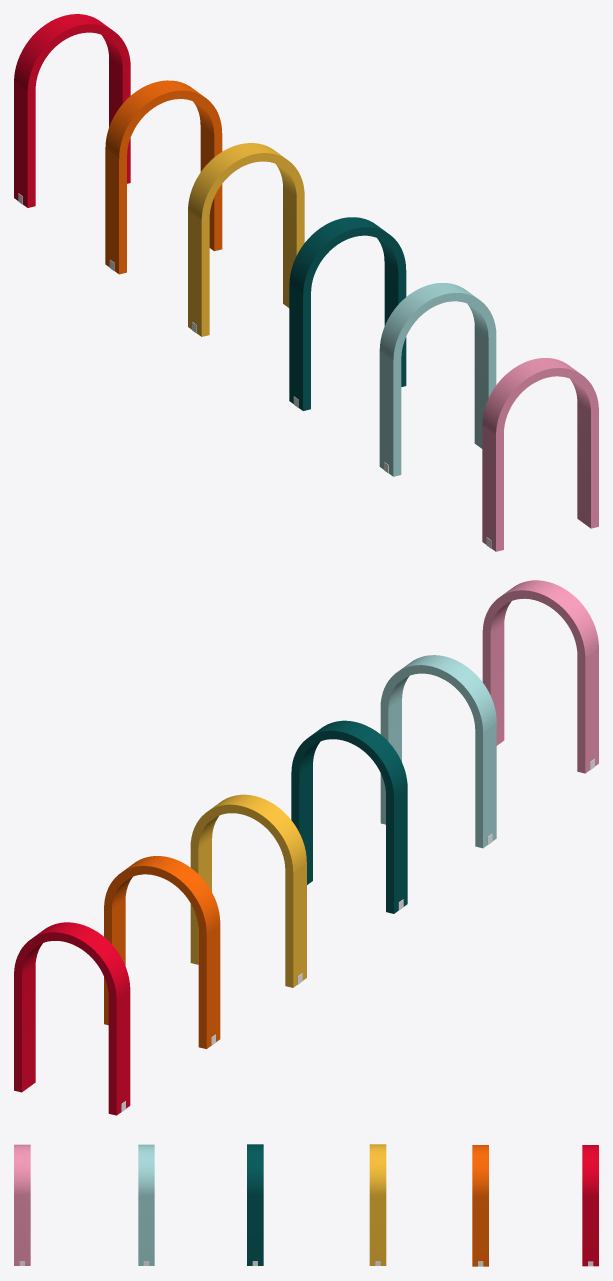
File: Colorful-Arches.glb
3 renders of one model, top to bottom at view 1: azimuth 30°, elevation 25°; view 2: azimuth 150°, elevation 25°; view 3: azimuth 270°, elevation 25°, orthographic. The views are drawn at different scales.
Parts seen in each view (by area): view 1: wall_doors_arc 6, wall_doors_arc 5, wall_doors_arc 3, wall_doors_arc 2, wall_doors_arc 4, wall_doors_arc; view 2: wall_doors_arc, wall_doors_arc 6, wall_doors_arc 4, wall_doors_arc 2, wall_doors_arc 3, wall_doors_arc 5; view 3: wall_doors_arc 3, wall_doors_arc 6, wall_doors_arc 5, wall_doors_arc 2, wall_doors_arc 4, wall_doors_arc.
Boxes of the visible parts, x1=… form: wall_doors_arc 6: x1=482, y1=358, x2=598, y2=551; wall_doors_arc 5: x1=379, y1=283, x2=496, y2=476; wall_doors_arc 3: x1=188, y1=143, x2=304, y2=336; wall_doors_arc 2: x1=105, y1=80, x2=222, y2=274; wall_doors_arc 4: x1=289, y1=217, x2=406, y2=410; wall_doors_arc: x1=14, y1=14, x2=130, y2=207; wall_doors_arc: x1=14, y1=922, x2=130, y2=1115; wall_doors_arc 6: x1=482, y1=580, x2=598, y2=773; wall_doors_arc 4: x1=291, y1=720, x2=407, y2=913; wall_doors_arc 2: x1=104, y1=856, x2=220, y2=1048; wall_doors_arc 3: x1=190, y1=794, x2=306, y2=987; wall_doors_arc 5: x1=380, y1=655, x2=496, y2=848; wall_doors_arc 3: x1=369, y1=1144, x2=386, y2=1265; wall_doors_arc 6: x1=14, y1=1144, x2=30, y2=1265; wall_doors_arc 5: x1=138, y1=1144, x2=154, y2=1265; wall_doors_arc 2: x1=472, y1=1145, x2=488, y2=1266; wall_doors_arc 4: x1=247, y1=1144, x2=263, y2=1265; wall_doors_arc: x1=582, y1=1145, x2=598, y2=1266.
Bounding box in the file's own units: 0.9881 × 1.51 × 7.8.
